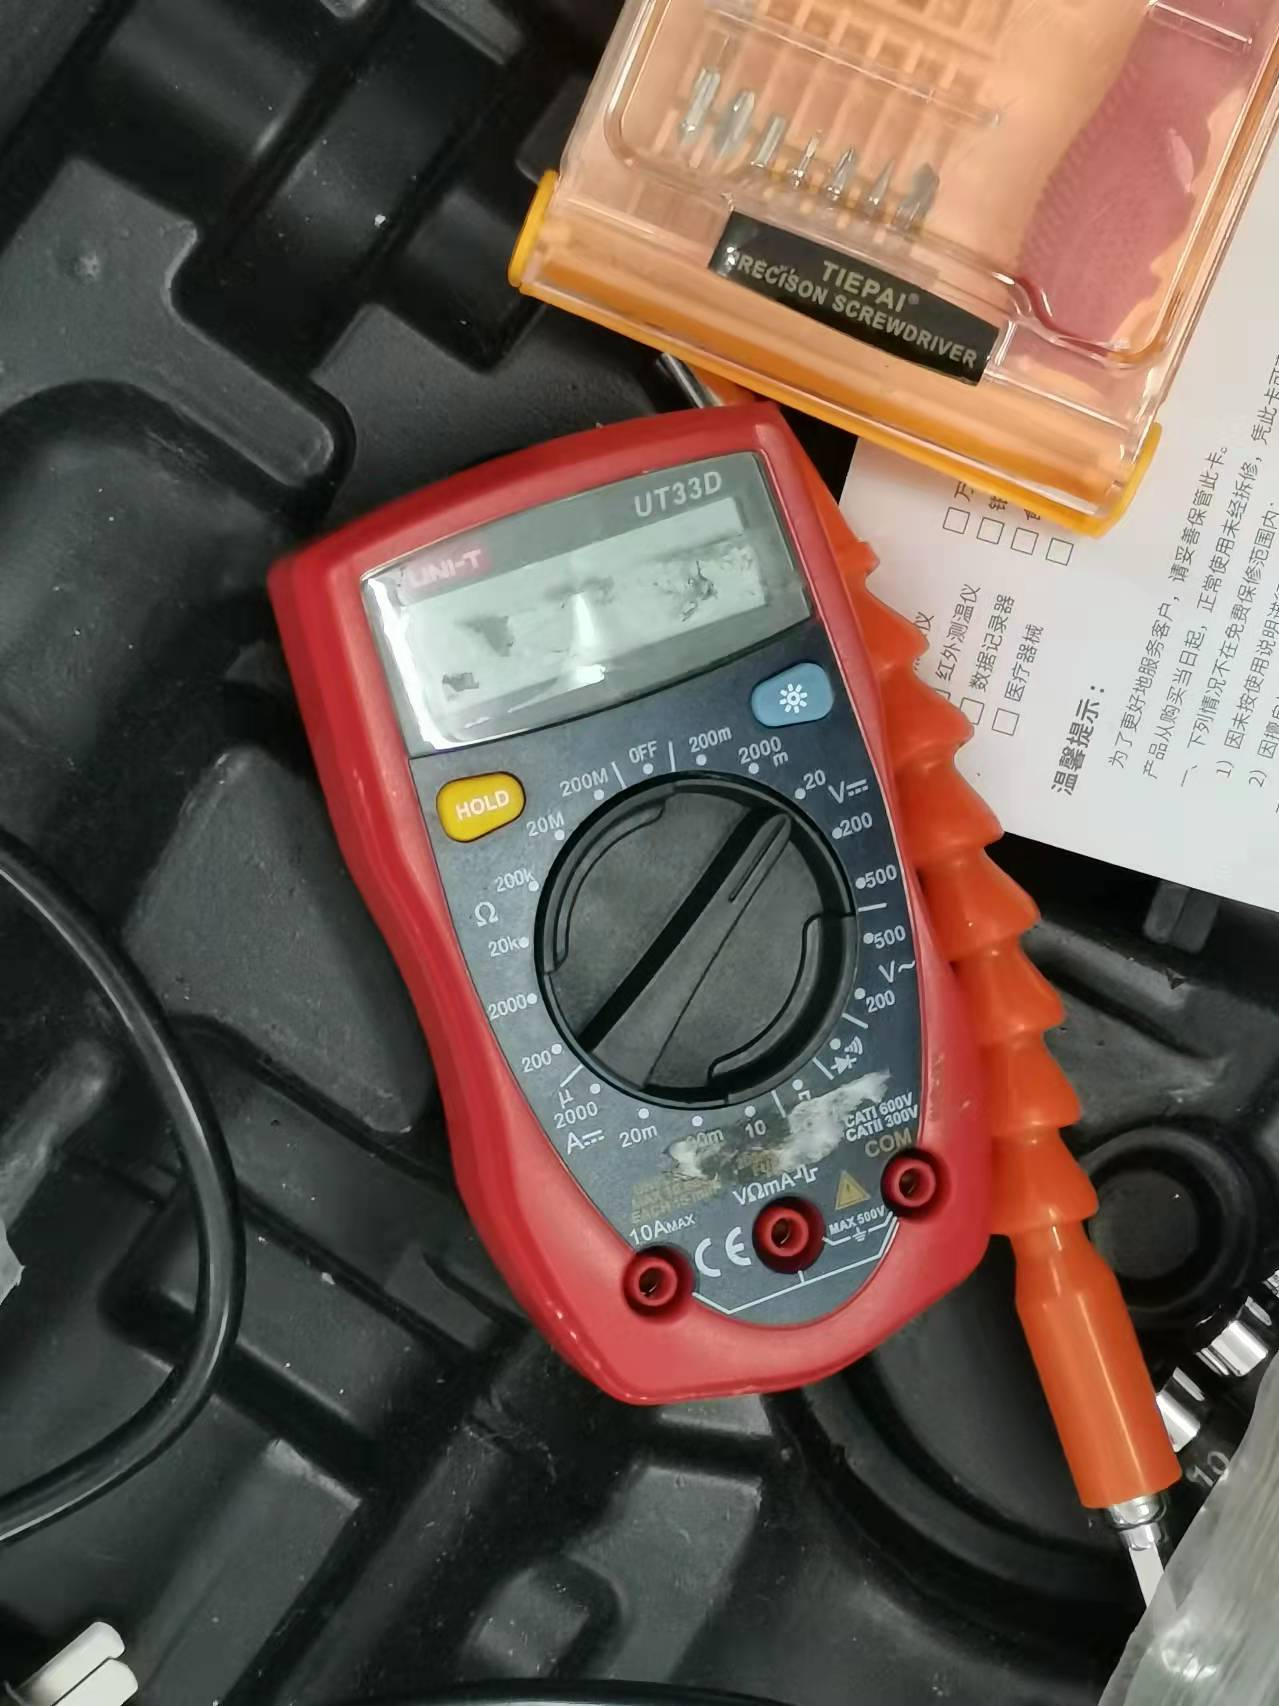Multimeter: (261, 390, 1004, 1423)
